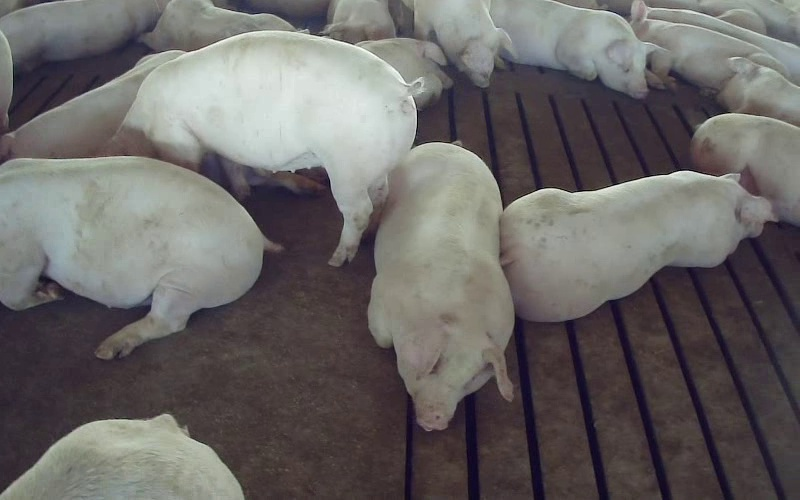pig: (107, 31, 423, 265), (368, 143, 513, 430), (500, 171, 774, 320), (0, 414, 243, 499), (0, 50, 183, 160), (491, 0, 663, 98), (630, 0, 789, 91), (648, 7, 799, 85), (0, 0, 163, 71), (414, 0, 513, 87), (140, 0, 295, 50), (717, 57, 799, 126)
